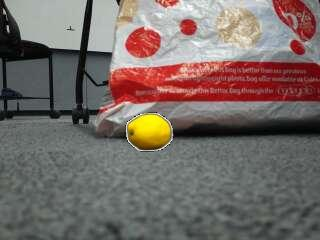lemon: (127, 115, 170, 151)
